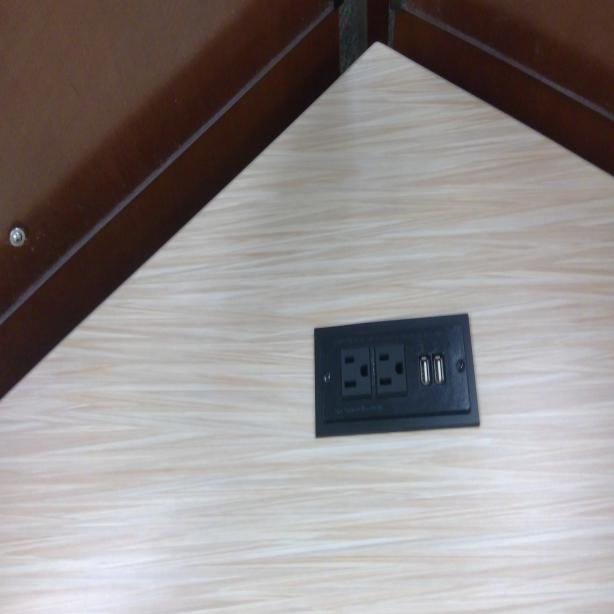typeb: (338, 343, 373, 402), (375, 341, 408, 396)
